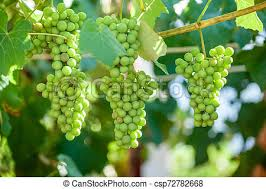grapes: (97, 16, 154, 151), (41, 4, 91, 141), (177, 46, 239, 129)
